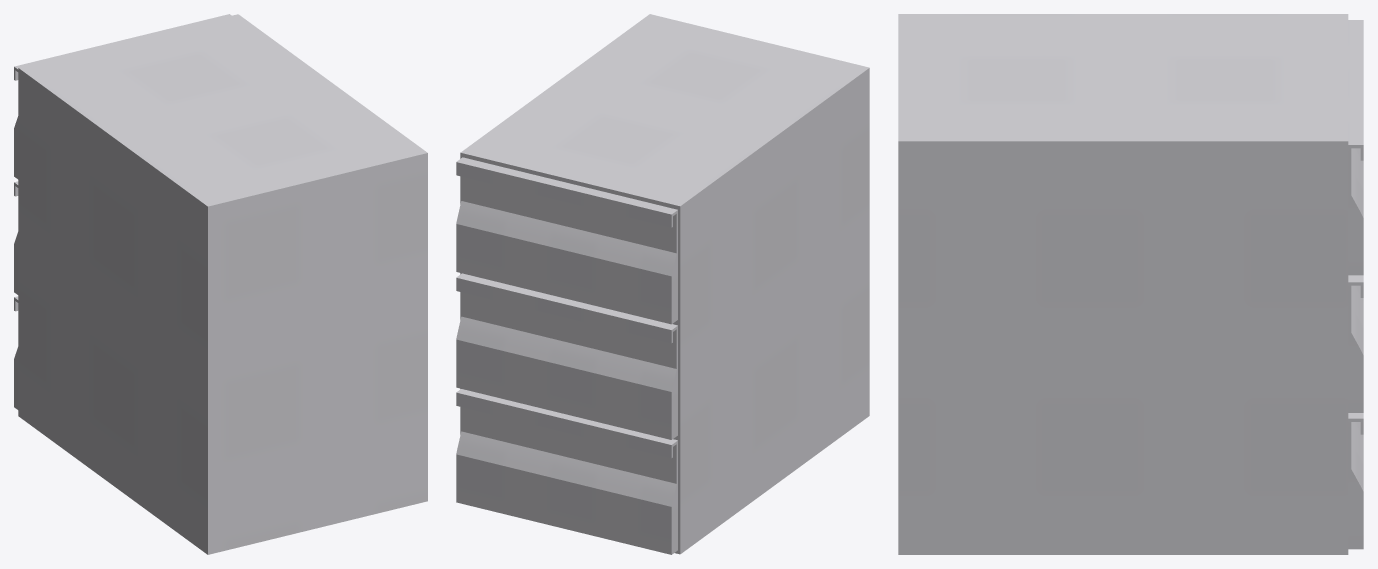
Rendered from Drawer43.glb.
3 renders of one model, left to right at view 1: azimuth 30°, elevation 25°; view 2: azimuth 150°, elevation 25°; view 3: azimuth 270°, elevation 25°, orthographic. The views are drawn at different scales.
Visible parts, largest first — view 1: Drawer43_Body, Drawer43_1; view 2: Drawer43_Body, Drawer43_1, Drawer43_2, Drawer43_3; view 3: Drawer43_Body, Drawer43_1, Drawer43_2, Drawer43_3.
Boxes of the visible parts, <box> form: Drawer43_Body: <box>18,14,427,554</box>; Drawer43_1: <box>14,14,231,179</box>; Drawer43_Body: <box>460,14,869,554</box>; Drawer43_1: <box>456,157,677,324</box>; Drawer43_2: <box>456,273,677,439</box>; Drawer43_3: <box>456,389,677,554</box>; Drawer43_Body: <box>898,14,1348,554</box>; Drawer43_1: <box>1348,20,1363,275</box>; Drawer43_2: <box>1348,275,1363,412</box>; Drawer43_3: <box>1348,413,1363,549</box>.
Size of the model in its own units: 1.06 by 1.61 by 1.64.
1 material, 1 textured.
